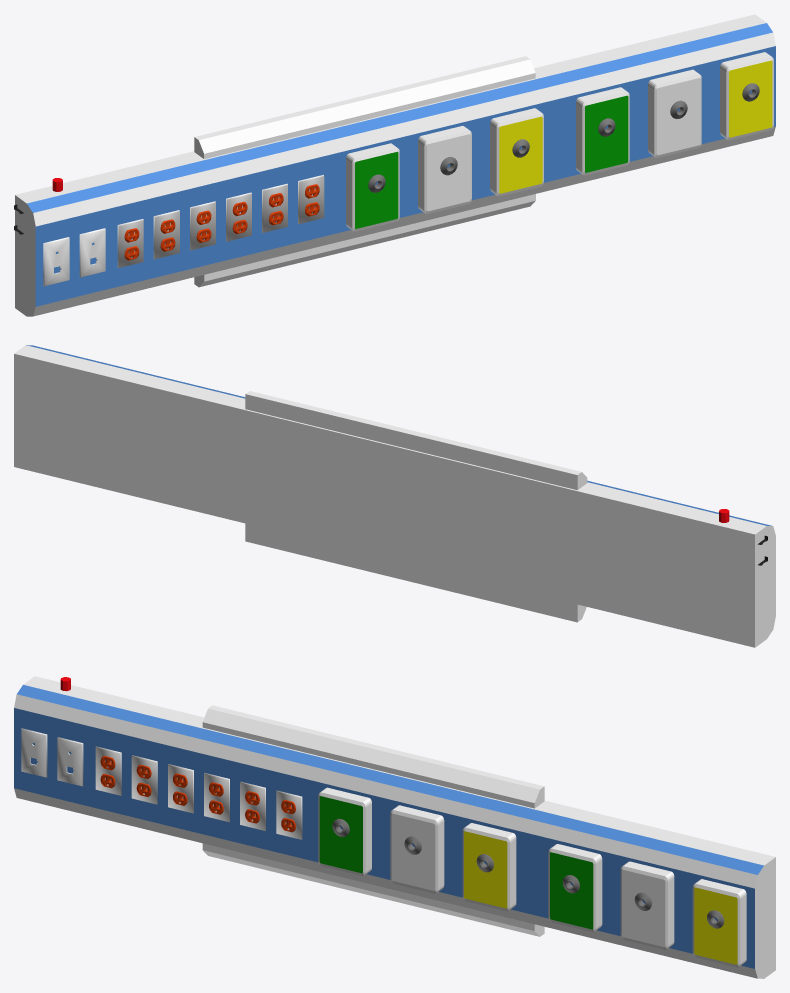
The picture shows the model from 3 angles, top to bottom: view 1: azimuth 30°, elevation 25°; view 2: azimuth 150°, elevation 25°; view 3: azimuth 330°, elevation 25°; orthographic projection.
Parts seen in each view (by area): view 1: PC-6; view 2: PC-6; view 3: PC-6.
Part boxes in pixels (box(x1,y1,x2,y2)): PC-6: box(14, 14, 775, 316); PC-6: box(14, 345, 775, 647); PC-6: box(14, 676, 775, 978).
Size of the model in its own units: 206 by 39 by 14.29.
